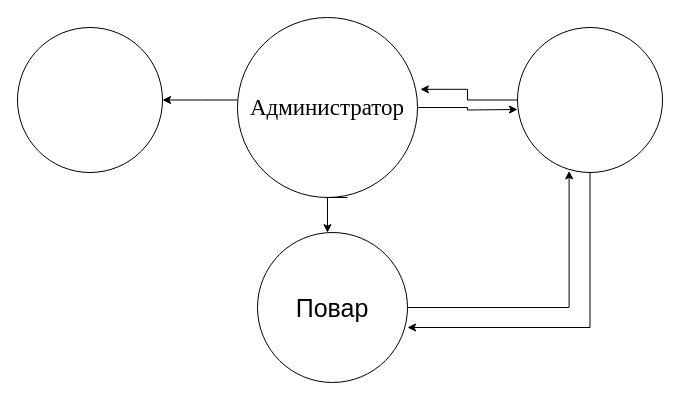
Image size: 680x400. Some labels were removed from this diagram. Here are the shapes that lost their labels. From the top down, the centre of each, then its label:
At [89,99]: "Уборщик".
At [589,99]: "Официант".
